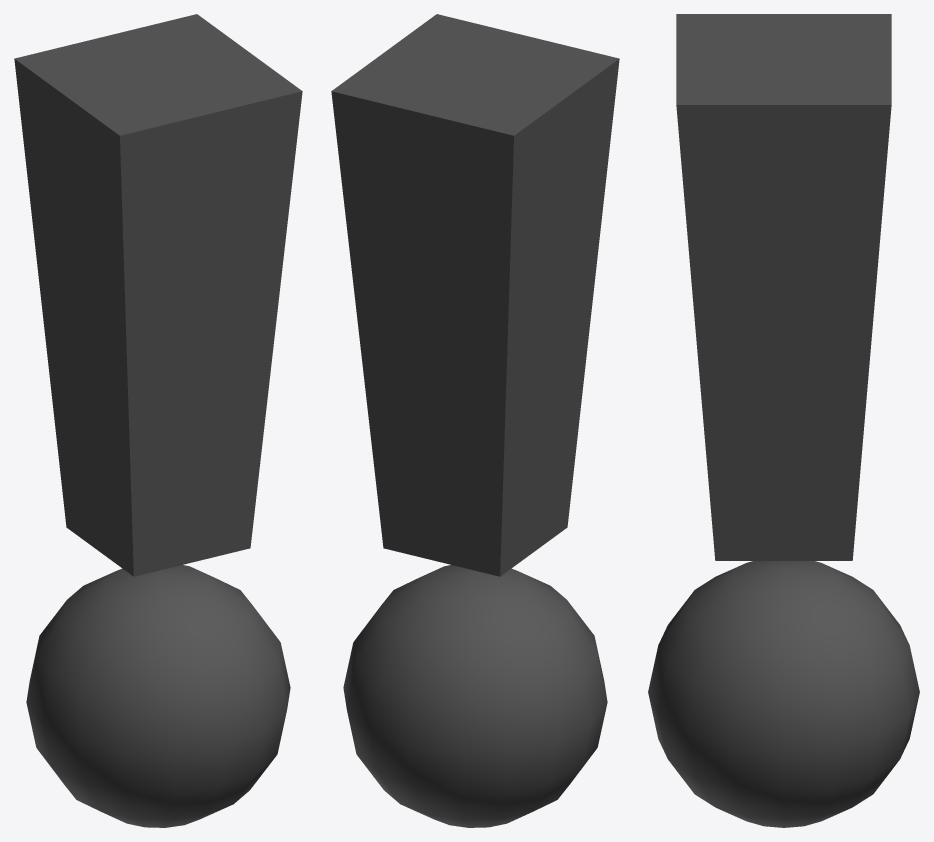
File: Alert Effect.fbx
The picture shows the model from 3 angles, left to right: view 1: azimuth 30°, elevation 25°; view 2: azimuth 150°, elevation 25°; view 3: azimuth 270°, elevation 25°; orthographic projection. The views are drawn at different scales.
Parts seen in each view (by area): view 1: exclamation mark; view 2: exclamation mark; view 3: exclamation mark.
Boxes of the visible parts, bbox=[...] form: exclamation mark: bbox=[14, 14, 302, 827]; exclamation mark: bbox=[331, 14, 619, 827]; exclamation mark: bbox=[648, 14, 919, 827].
Bounding box in the file's own units: 0.4036 × 1.24 × 0.4036.
Materials: 1 (1 with a texture image).
